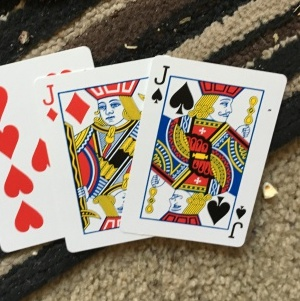card: (122, 52, 284, 249), (36, 60, 150, 255)
